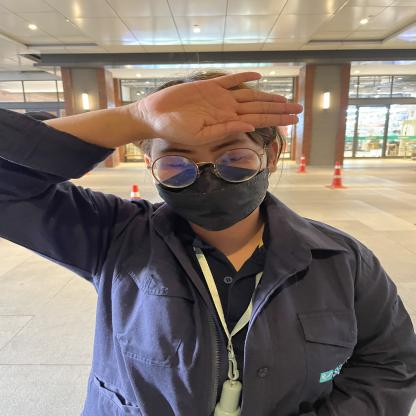Sick: (106, 33, 330, 151)
